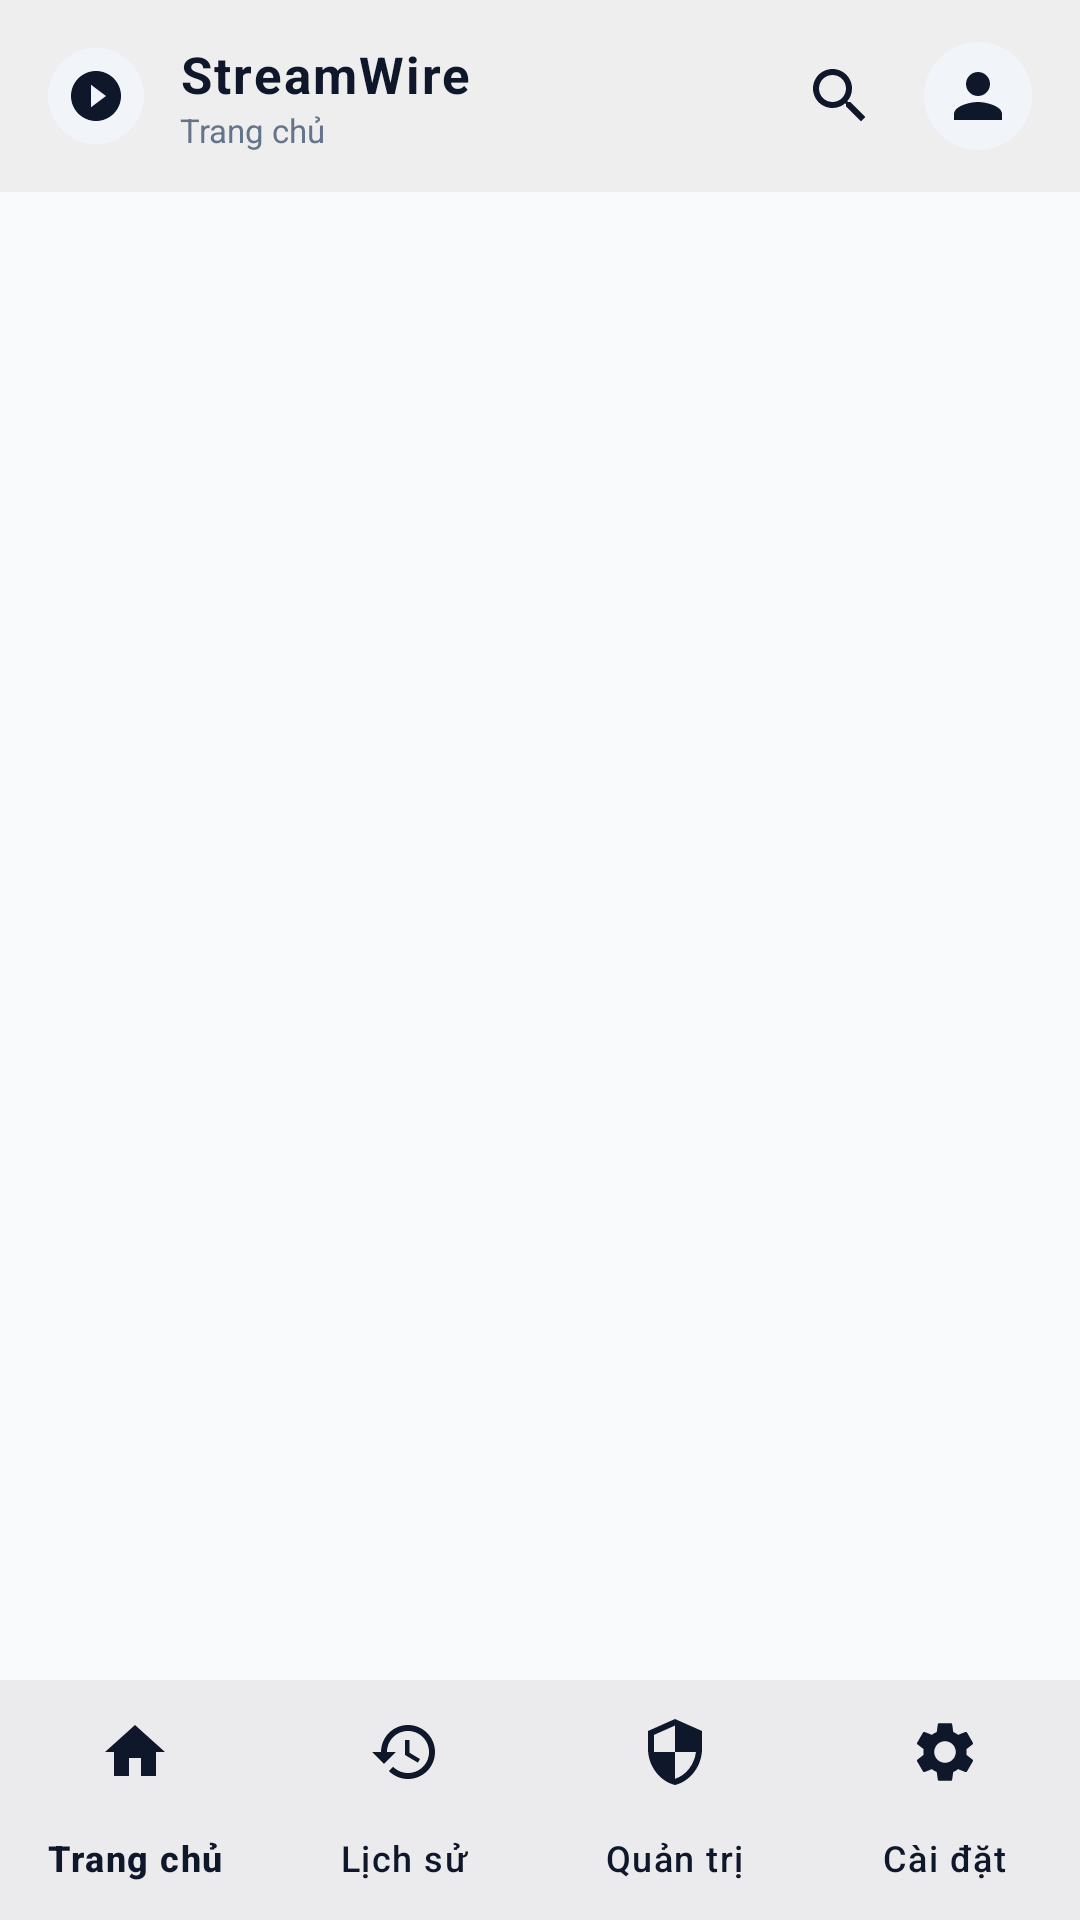

Where to tap for icons on this 1080*1920 app screen, as [x,y]:
Hồ sơ: [978,96]
Tìm kiếm: [839,95]
